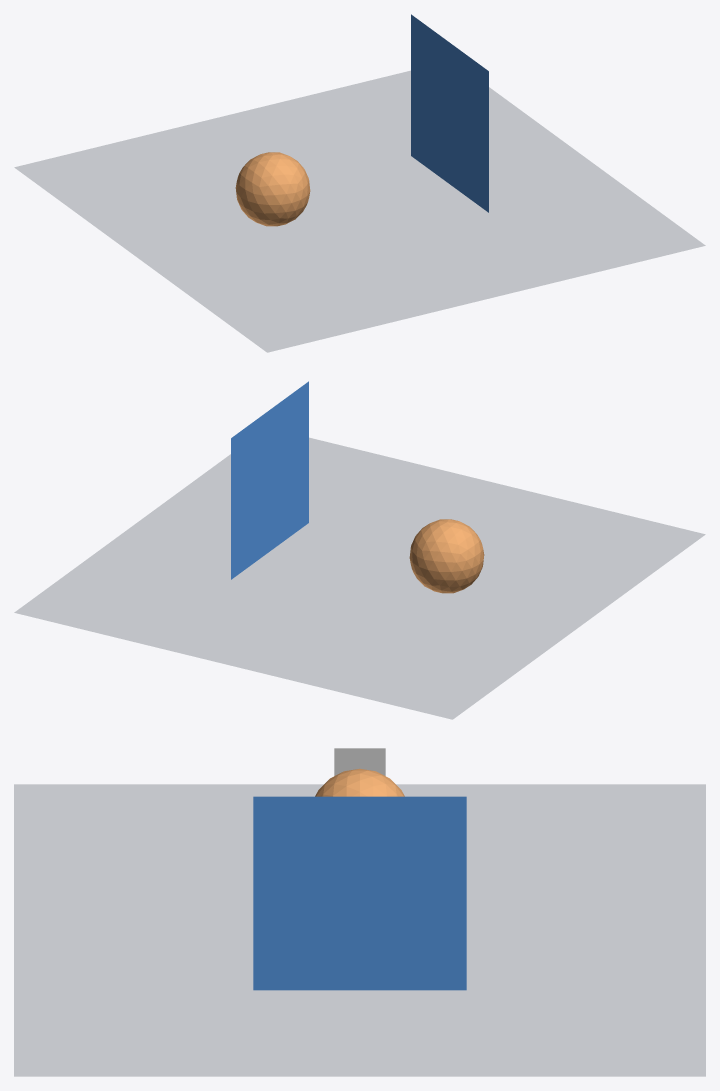
File: SmokeCloth.glb
3 renders of one model, top to bottom at view 1: azimuth 30°, elevation 25°; view 2: azimuth 150°, elevation 25°; view 3: azimuth 270°, elevation 25°, orthographic. The views are drawn at different scales.
Parts seen in each view (by area): view 1: Plane.002, Plane.003, VortexSphere.001; view 2: Plane.002, Plane.003, VortexSphere.001; view 3: Plane.002, Plane.003, VortexSphere.001, SmokeFlow.001.
Boxes of the visible parts, <box> form: Plane.002: <box>14,70,705,352</box>; Plane.003: <box>411,14,488,212</box>; VortexSphere.001: <box>235,152,310,226</box>; Plane.002: <box>14,437,705,719</box>; Plane.003: <box>231,381,308,579</box>; VortexSphere.001: <box>409,519,484,593</box>; Plane.002: <box>14,784,705,1076</box>; Plane.003: <box>253,796,466,990</box>; VortexSphere.001: <box>315,768,404,796</box>; SmokeFlow.001: <box>334,748,385,775</box>.
Size of the model in its own units: 6.48 by 2 by 6.48.
